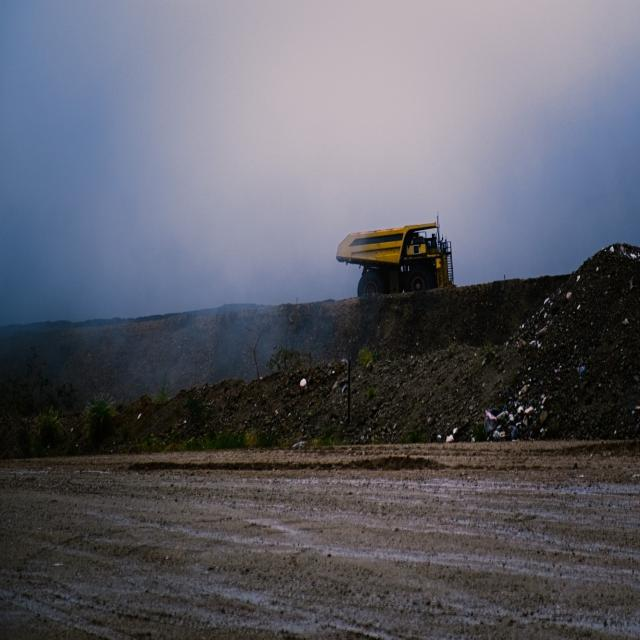dump_truck: (335, 214, 455, 302)
